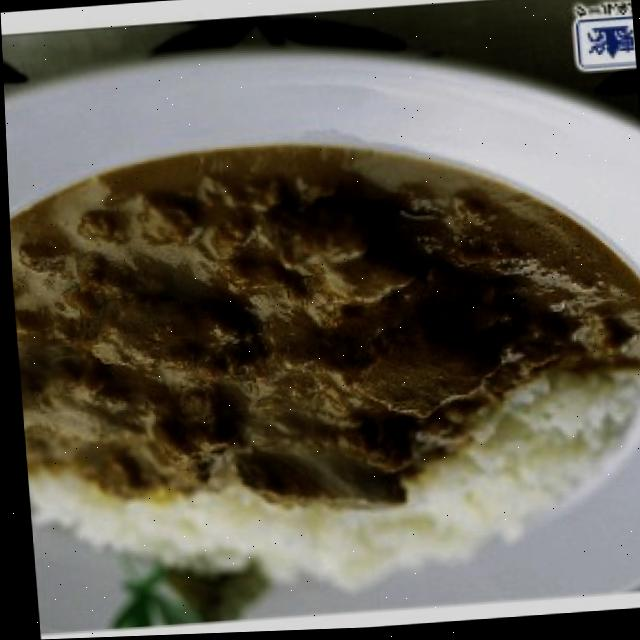牛肉菜式: (4, 97, 640, 626)
